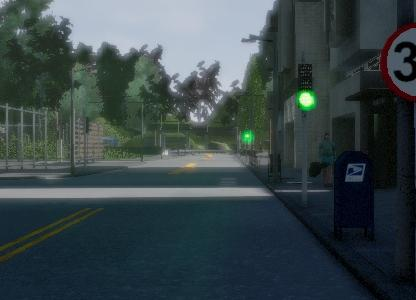Speed_30: (374, 24, 416, 109)
